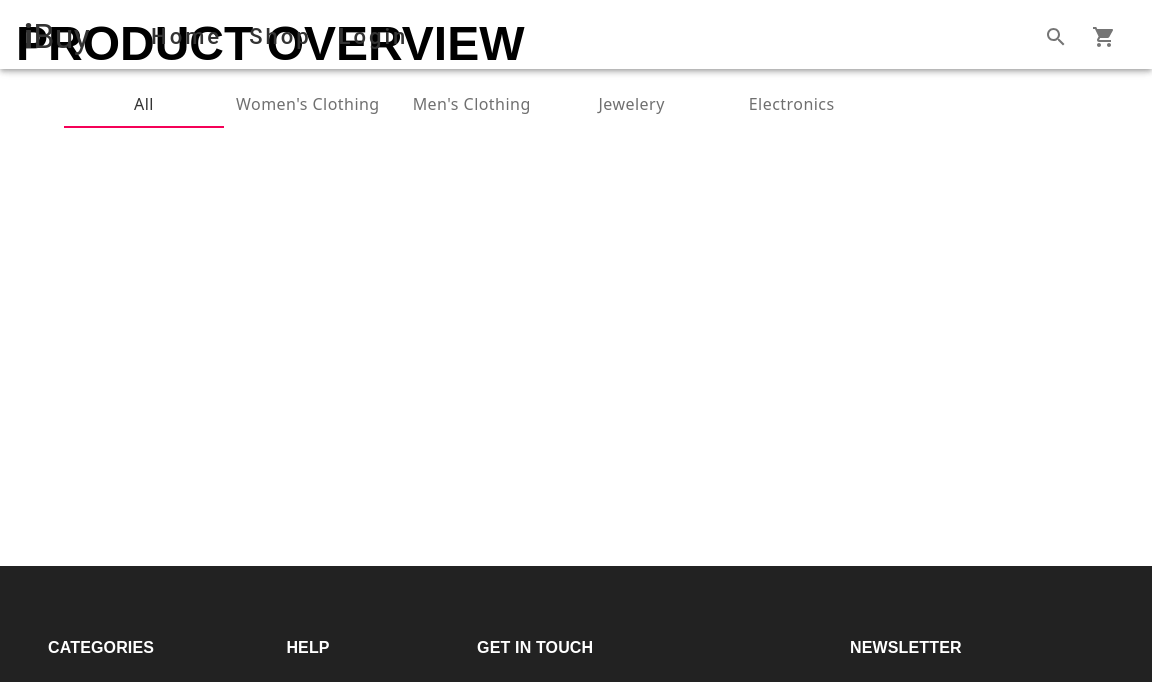
it: app testing › login success
What coordinates should you click on to do the following:
click the button "Login"
I would click on:
 (374, 37)
Its box is [328,10,419,64].
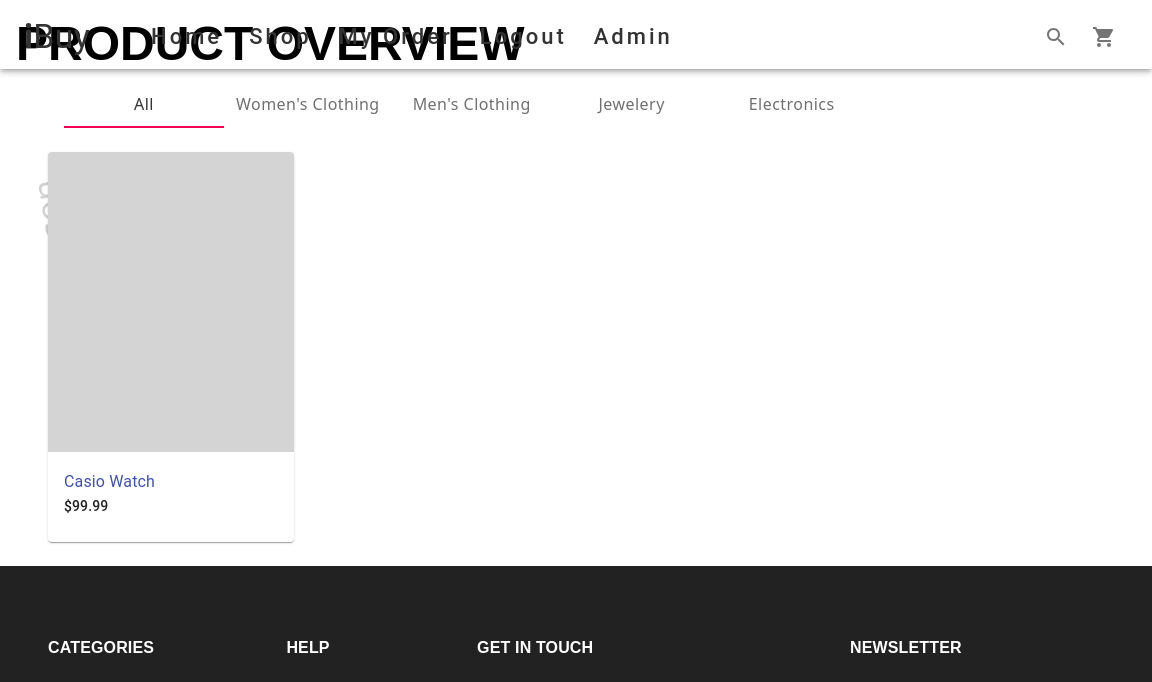
Now the text "Logout" is shown, box [480,18,567,56]
